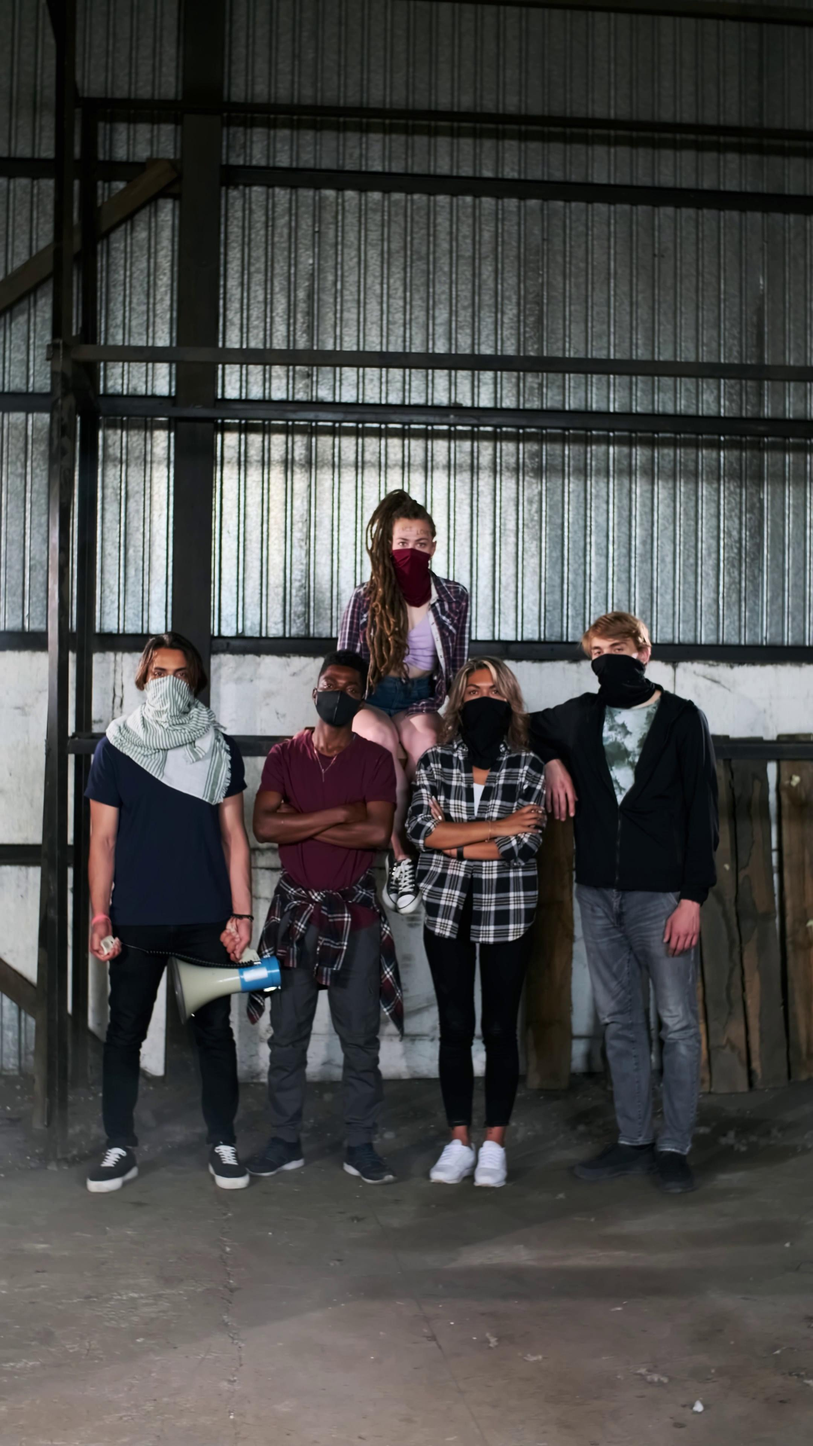mask: (461, 695, 512, 752), (390, 547, 431, 607), (144, 677, 196, 723), (590, 653, 646, 692), (315, 691, 363, 729)
person: (524, 609, 720, 1196), (80, 632, 253, 1193), (244, 651, 406, 1185), (403, 655, 548, 1191), (336, 489, 471, 916)
